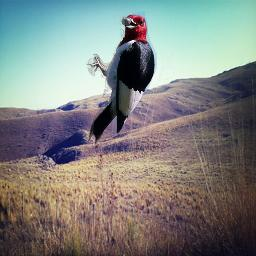Woodpecker: (83, 6, 157, 150)
